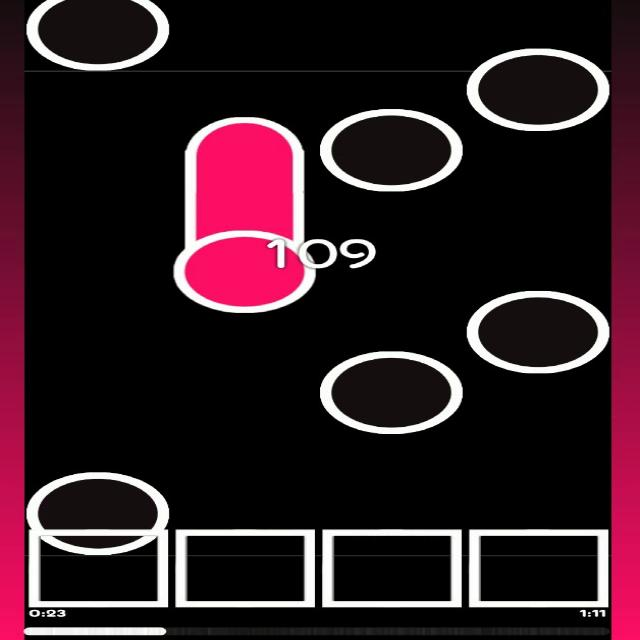end_hold: (181, 107, 303, 166)
note: (25, 466, 174, 562), (318, 346, 469, 436), (466, 46, 612, 132), (321, 104, 464, 191), (469, 286, 611, 373), (26, 0, 170, 71)
start_hold: (173, 215, 316, 317)
